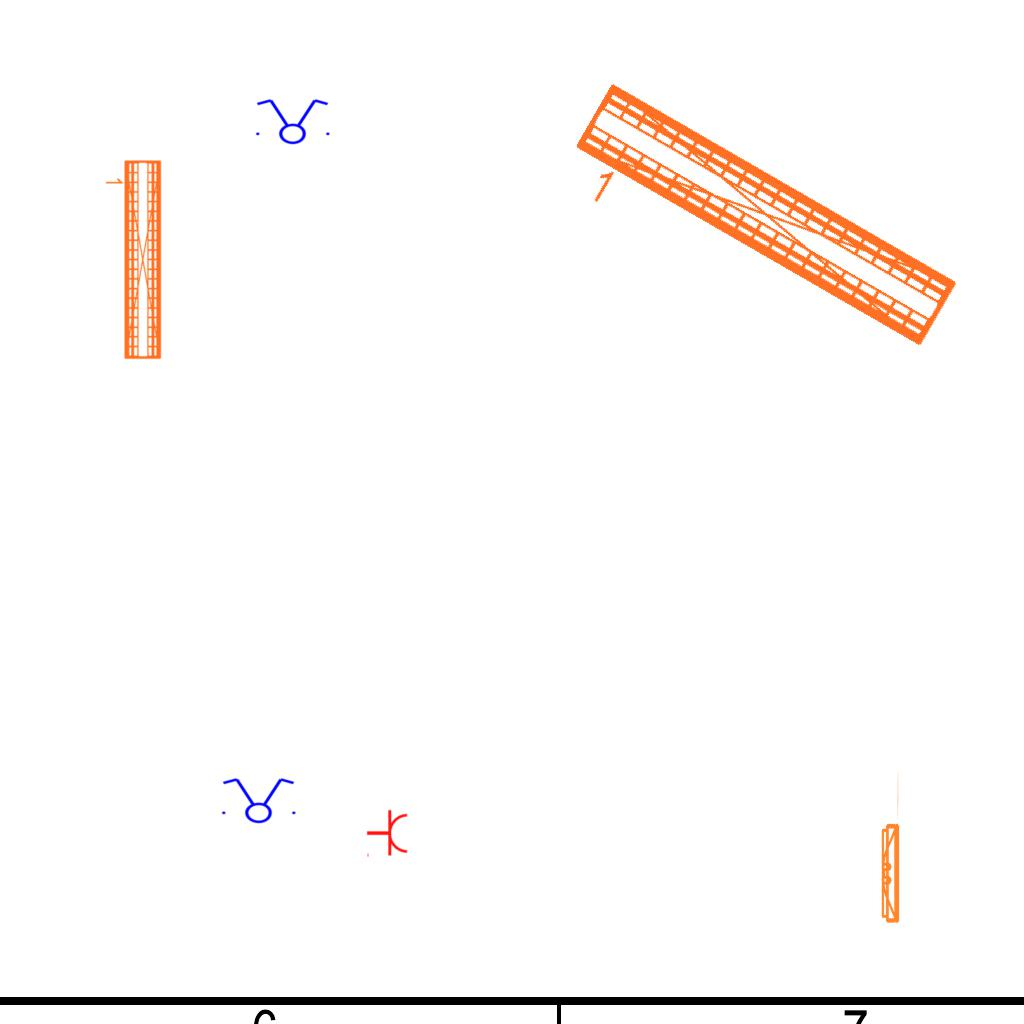Buero_Pendelleuchten_LED: (546, 71, 969, 391), (101, 157, 166, 363)
Schukosteckdose_einfach: (366, 809, 409, 859)
Serienschalter: (250, 97, 334, 145), (216, 776, 300, 824)
Sicherheitsleuchte_Wandeinbau: (877, 769, 902, 928)
